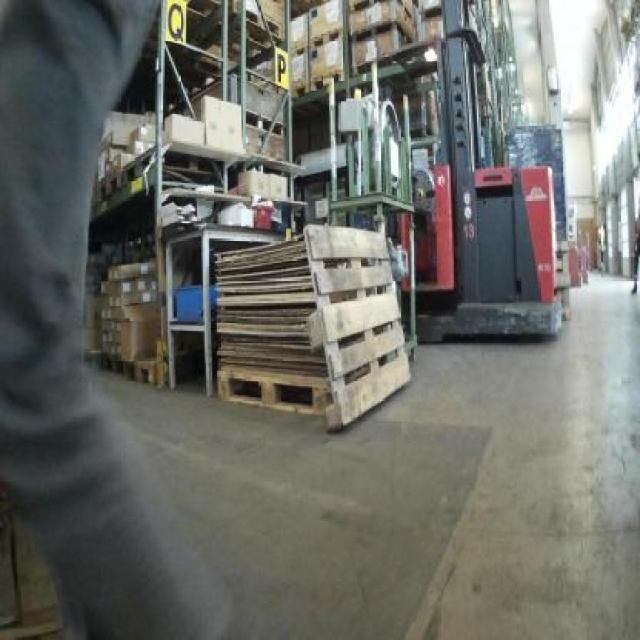pallet: (295, 229, 416, 438), (212, 360, 332, 421), (104, 349, 158, 386)
